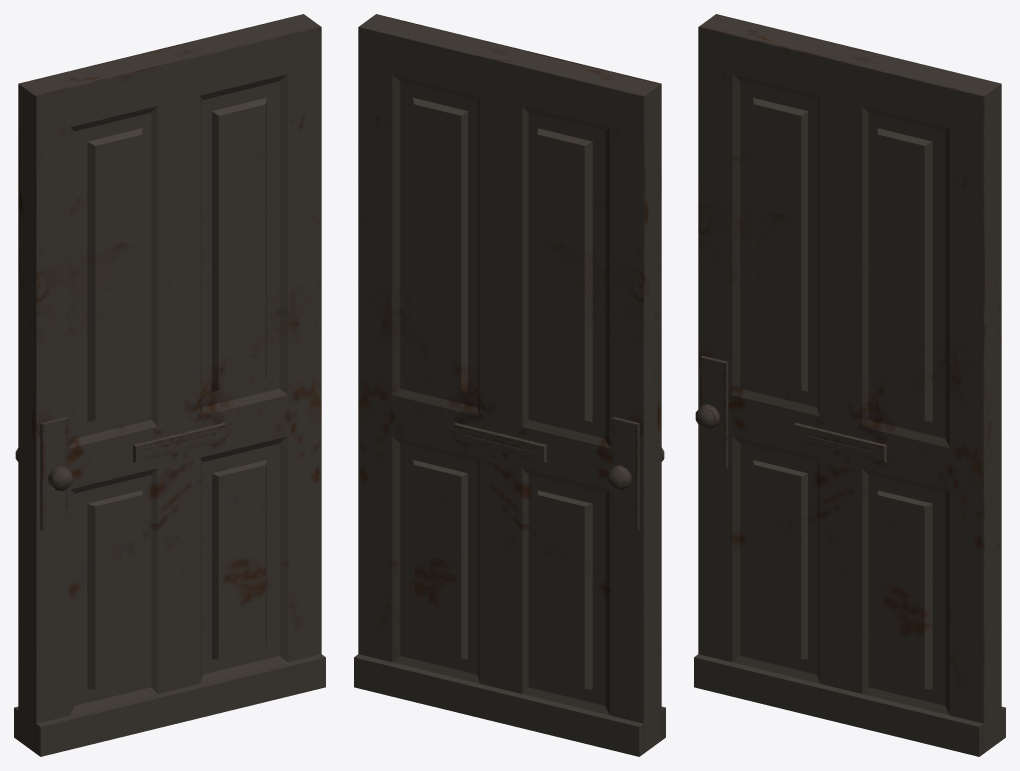
The model's file is Door_1.gltf.
3 views of the same model, side by side, from view 1: azimuth 30°, elevation 25°; view 2: azimuth 150°, elevation 25°; view 3: azimuth 330°, elevation 25° (orthographic).
Visible parts, largest first — view 1: Door_1; view 2: Door_1; view 3: Door_1.
Part boxes in pixels (box(x1,y1,x2,y2)): Door_1: box(14, 14, 325, 756); Door_1: box(354, 14, 665, 756); Door_1: box(694, 14, 1005, 756).
Size of the model in its own units: 1 by 2.2 by 0.2599.
1 material, 1 textured.
